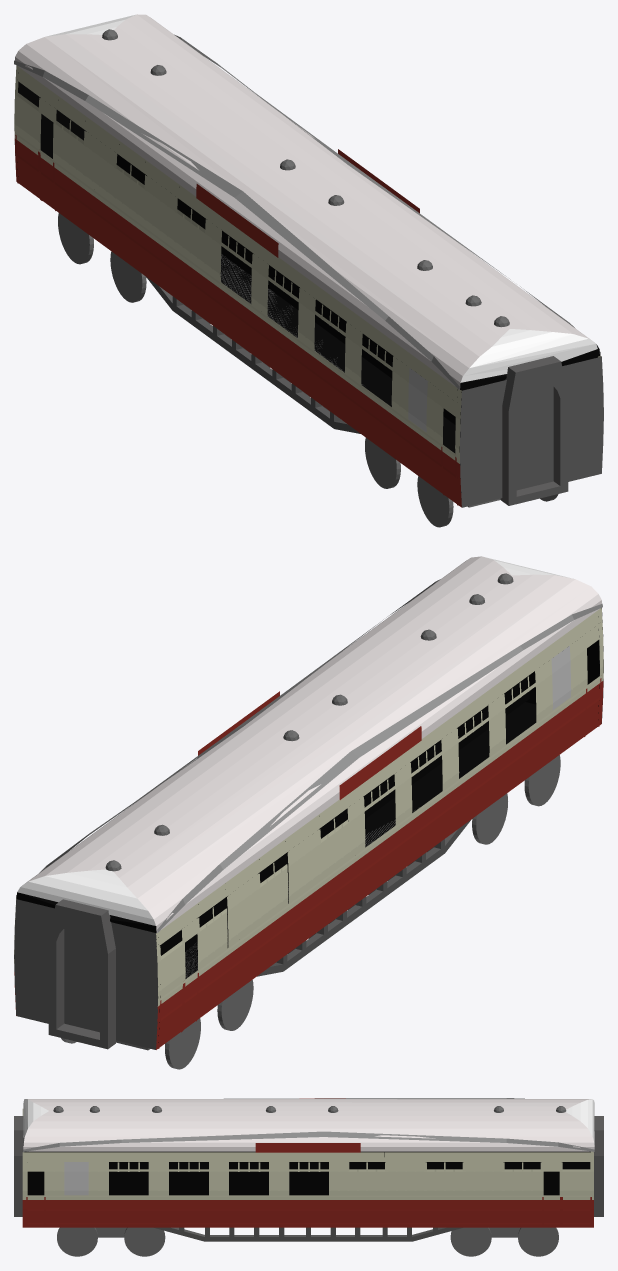
Rendered from lner-gresley-express-brake-cc.dae.
3 views of the same model, one above another, from view 1: azimuth 30°, elevation 25°; view 2: azimuth 150°, elevation 25°; view 3: azimuth 270°, elevation 25° (orthographic). The views are drawn at different scales.
Visible parts, largest first — view 1: Suzanne_001, Plane_358, Plane_070, Tube_002, Suzanne_004, Plane_012, Plane_359, Plane_019, Plane_357, Plane_332, Plane_281, Plane_276 (+21 smaller); view 2: Suzanne_001, Plane_358, Plane_001, Tube_004, Suzanne_004, Plane_012, Plane_019, Plane_359, Plane_357, Plane_332, Plane_281, Plane_276 (+20 smaller); view 3: Suzanne_001, Plane_007, Plane_019, Plane_006, Suzanne_003, Plane_005, Plane_158, Plane_079, Plane_239, Plane_242, Plane_077, Plane_078 (+29 smaller).
Boxes of the visible parts, box(x1,y1,x2,y2) form: Suzanne_001: box(15, 14, 599, 389); Plane_358: box(14, 138, 461, 507); Plane_070: box(460, 356, 603, 507); Tube_002: box(500, 356, 568, 505); Suzanne_004: box(14, 60, 459, 389); Plane_012: box(220, 254, 461, 498); Plane_359: box(15, 72, 461, 404); Plane_019: box(116, 144, 455, 424); Plane_357: box(14, 131, 459, 463); Plane_332: box(179, 185, 440, 381); Plane_281: box(146, 176, 177, 247); Plane_276: box(85, 131, 116, 203); Suzanne_001: box(16, 556, 601, 933); Plane_358: box(156, 681, 603, 1049); Plane_001: box(14, 899, 158, 1049); Tube_004: box(48, 899, 115, 1049); Suzanne_004: box(157, 603, 602, 932); Plane_012: box(185, 702, 536, 978); Plane_019: box(160, 675, 529, 955); Plane_359: box(156, 614, 602, 947); Plane_357: box(157, 673, 603, 1006); Plane_332: box(319, 623, 580, 820); Plane_281: box(288, 829, 319, 901); Plane_276: box(227, 874, 258, 945); Suzanne_001: box(23, 1099, 594, 1151); Plane_007: box(22, 1200, 593, 1227); Plane_019: box(24, 1151, 590, 1195); Plane_006: box(22, 1157, 593, 1161); Suzanne_003: box(23, 1131, 594, 1151); Plane_005: box(22, 1195, 593, 1199); Plane_158: box(50, 1152, 383, 1157); Plane_079: box(26, 1195, 591, 1196); Plane_239: box(386, 1162, 425, 1195); Plane_242: box(464, 1162, 502, 1195); Plane_077: box(27, 1209, 590, 1210); Plane_078: box(27, 1223, 590, 1224).
Bounding box in the file's own units: 2.08 × 11.39 × 2.82.
